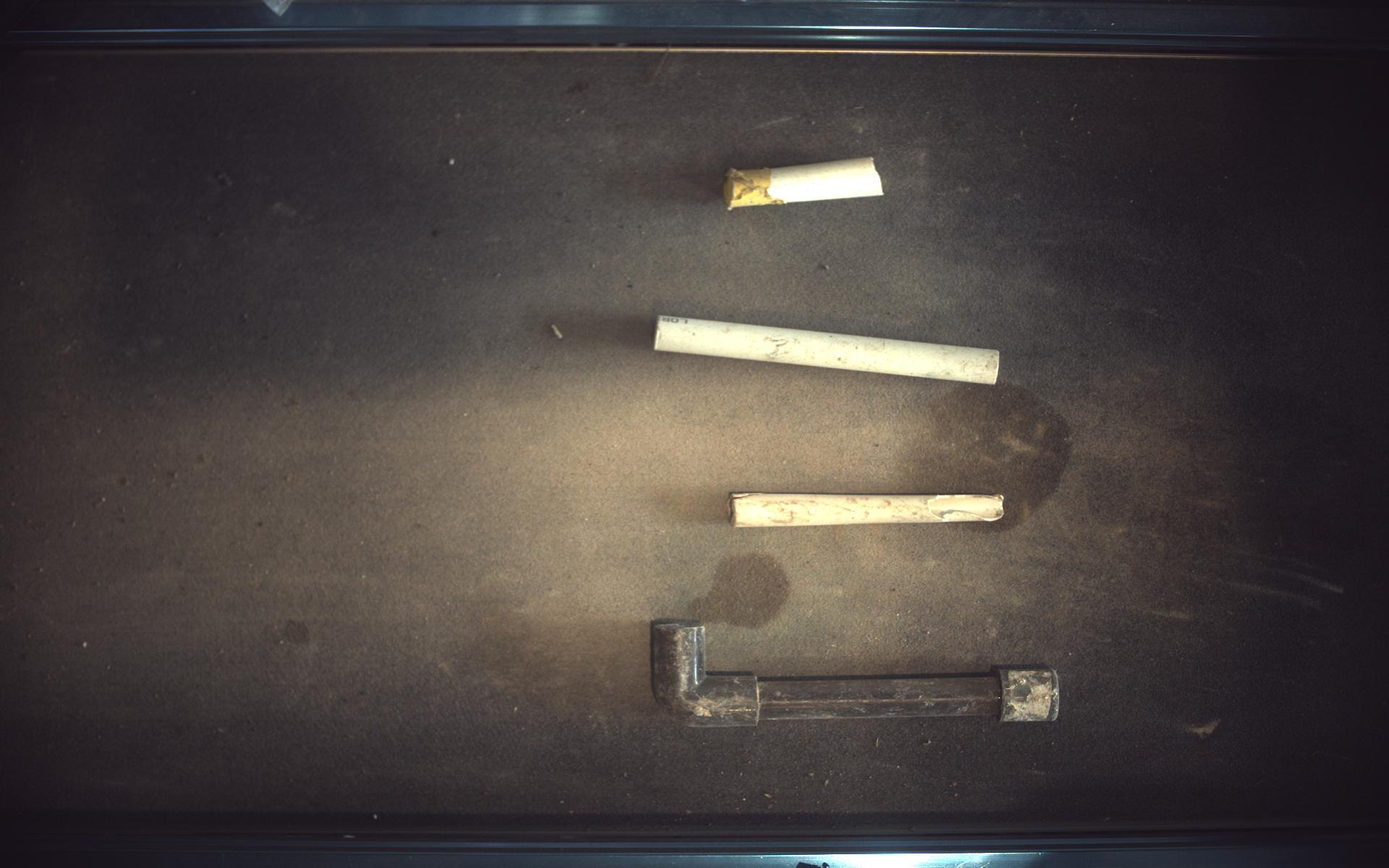pipes: (652, 621, 1061, 728), (655, 315, 1002, 384), (731, 493, 1006, 527), (725, 156, 885, 209)
